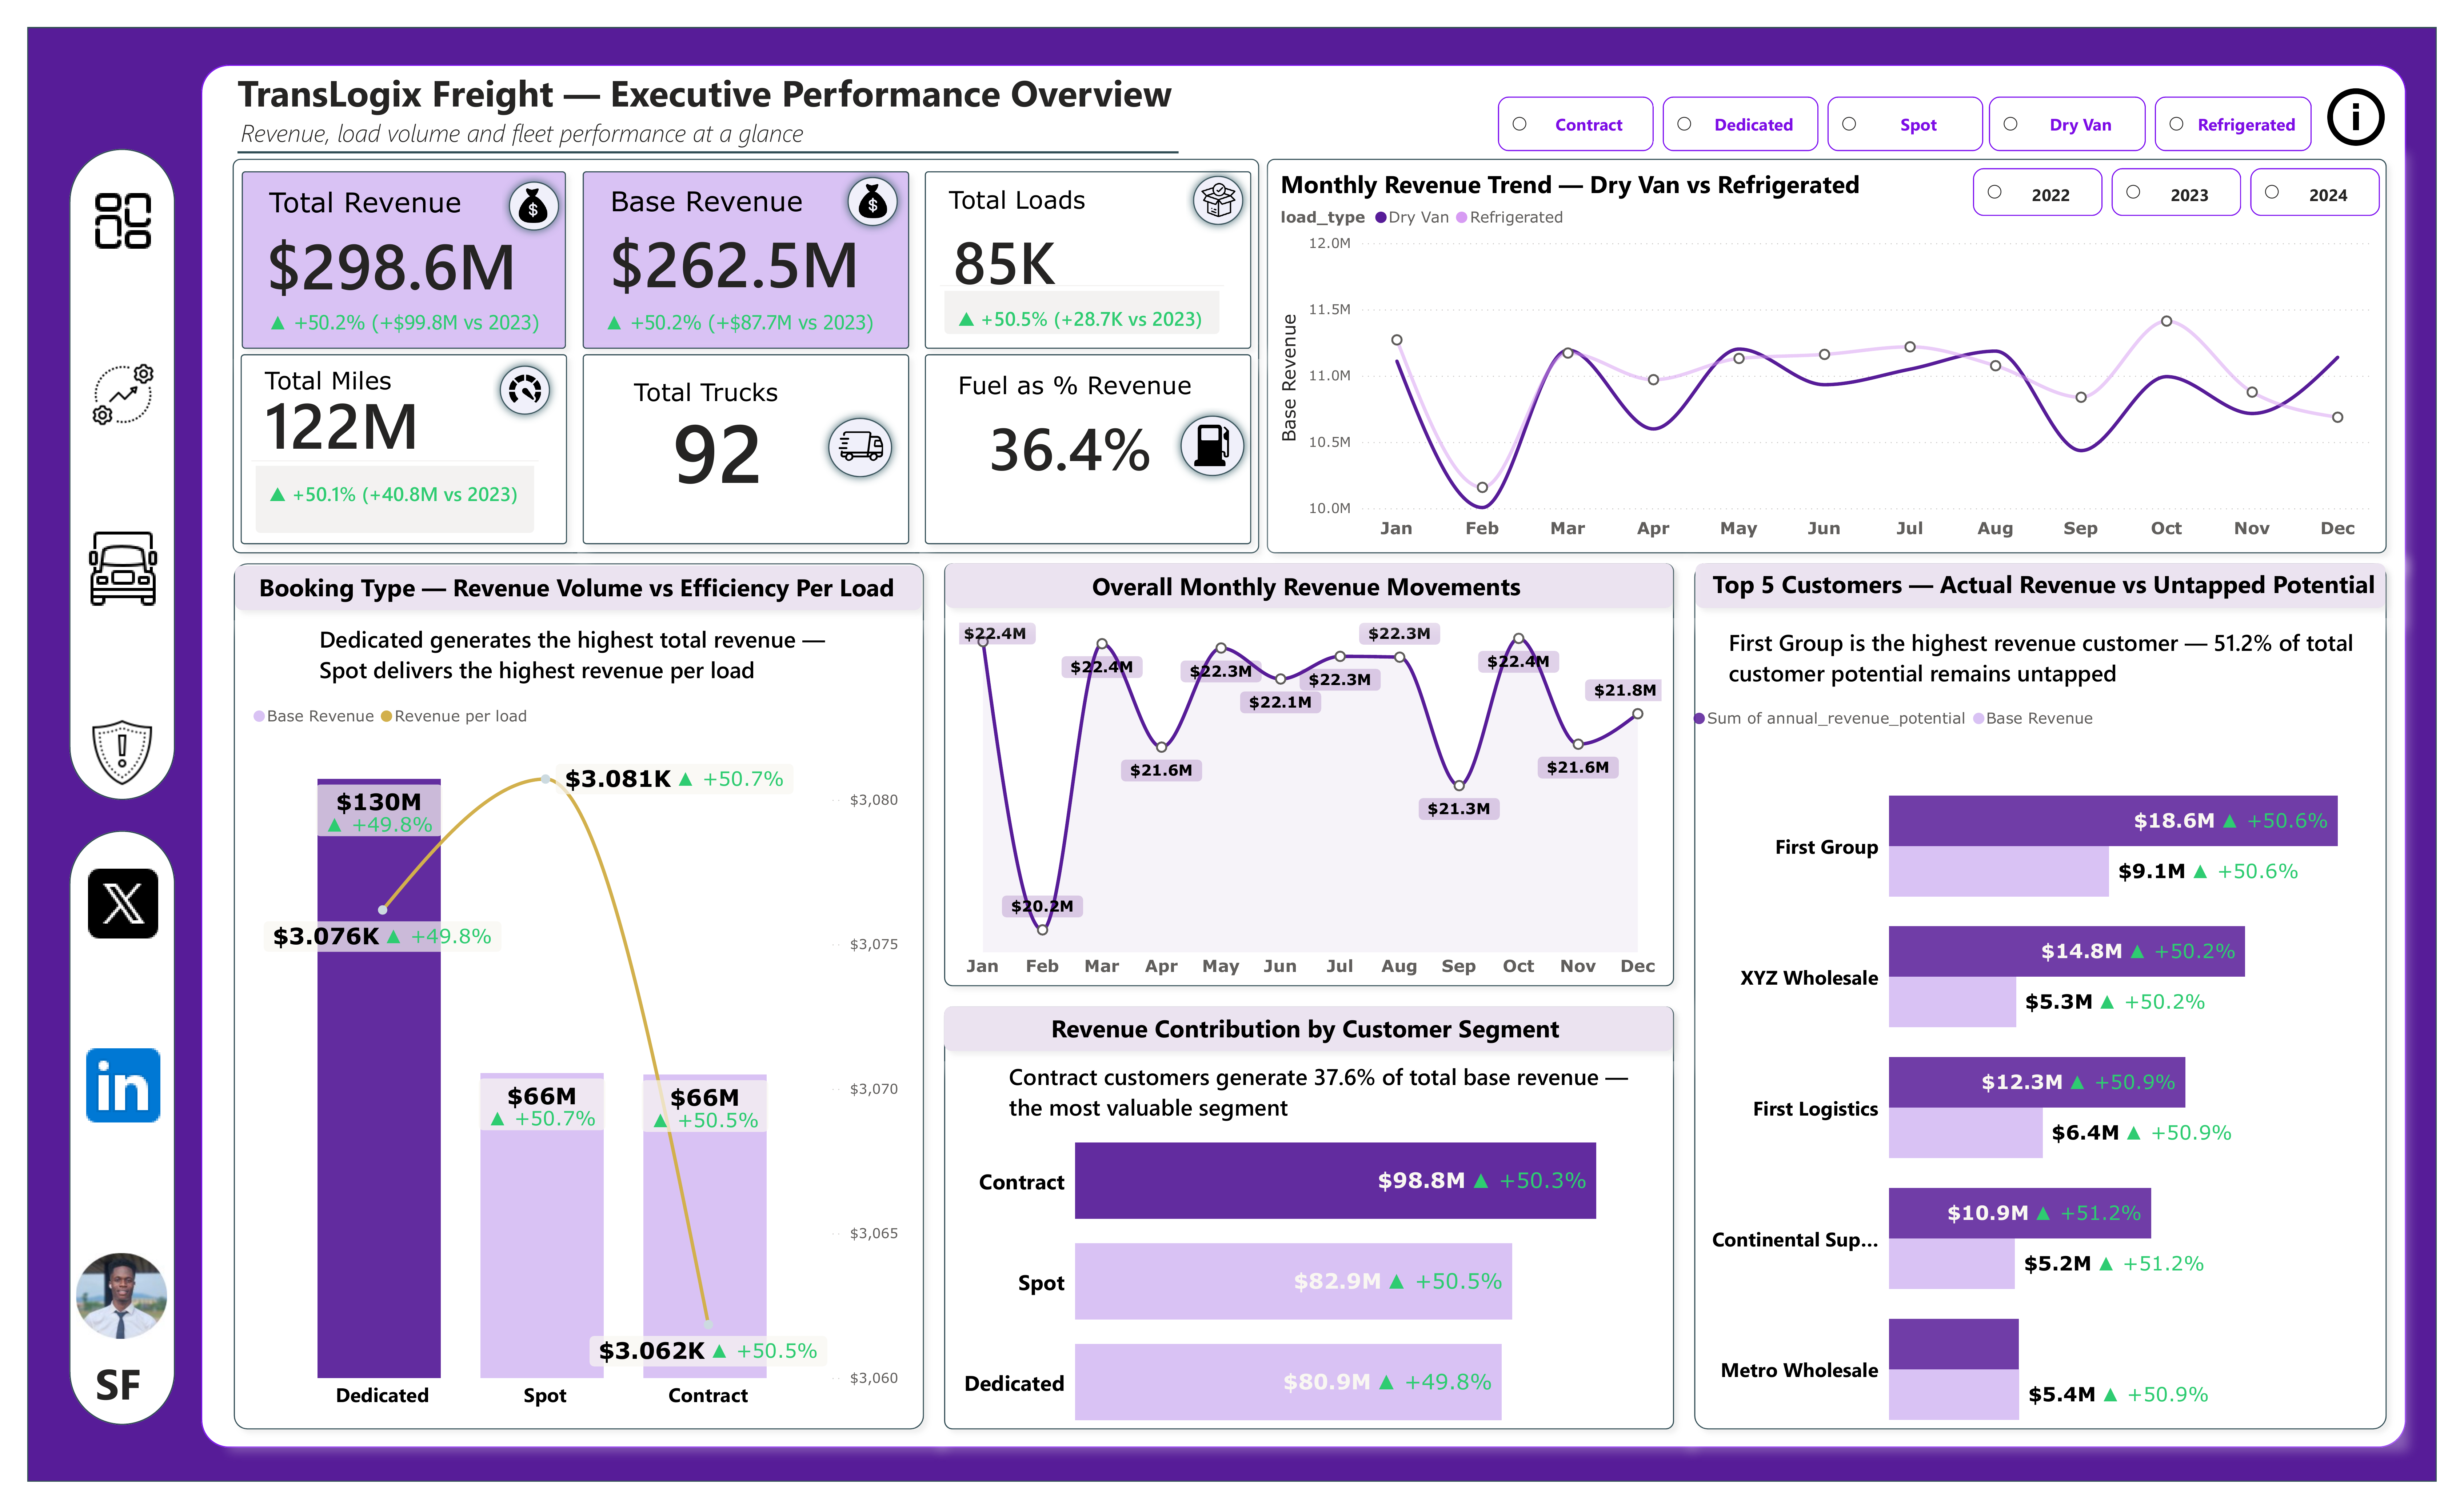

The dashboard page shown, as its layout file describes it:
{"tool":"powerbi","page":{"name":"Overview","canvas":[2120,1280],"ordinal":0},"visuals":[{"type":"shape","box":[0,0,2120,1280],"z":0},{"type":"shape","box":[152.5,27.5,1940,1222.5],"z":1000},{"type":"shape","box":[171.7,106.7,921.7,365],"z":2000},{"type":"shape","box":[1082.2,107.1,1003.1,365.4],"z":3000},{"type":"shape","box":[172.5,462.5,625,780],"z":4000},{"type":"shape","box":[798.1,462.7,660,390],"z":5000},{"type":"shape","box":[797.5,852.5,660,390],"z":6000},{"type":"lineChart","fields":{"Category":["Date Table.Month Name"],"Y":["Analysis.Base Revenue"],"Series":["loads.load_type"]},"box":[1098.3,146.7,970,313.3],"z":7000},{"type":"shape","box":[1457.5,462.7,627.5,780],"z":8000},{"type":"lineClusteredColumnComboChart","fields":{"Category":["loads.booking_type"],"Y":["Analysis.Base Revenue"],"Y2":["Analysis.Revenue per load"]},"box":[193.2,586.5,591.1,640],"z":9000},{"type":"areaChart","fields":{"Category":["Date Table.Month Name"],"Y":["Analysis.Base Revenue"]},"box":[815,512.5,627.5,332.5],"z":10000},{"type":"clusteredBarChart","fields":{"Category":["customers.customer_name"],"Y":["Sum(customers.annual_revenue_potential)","Analysis.Base Revenue"]},"box":[1460,587.5,660,692.5],"z":11000},{"type":"barChart","fields":{"Category":["customers.customer_type"],"Y":["Analysis.Base Revenue"]},"box":[817.5,932.5,642.5,337.5],"z":12000},{"type":"shape","box":[180,118.3,303.3,173.3],"z":13000},{"type":"shape","box":[178.9,278.9,305,185],"z":14000},{"type":"shape","box":[480.2,117.9,305,173.8],"z":15000},{"type":"shape","box":[480.2,278.9,305,185],"z":16000},{"type":"shape","box":[781.4,117.9,305,173.8],"z":17000},{"type":"shape","box":[781.4,278.9,305,185],"z":18000},{"type":"cardVisual","fields":{"Data":["Analysis.Base Revenue"]},"box":[483.3,146.7,280,115],"z":19000},{"type":"cardVisual","fields":{"Data":["Analysis.Total loads"]},"box":[785.7,162.9,284.3,128.6],"z":20000},{"type":"cardVisual","fields":{"Data":["Analysis.Revenue KPI Subtitle"]},"box":[480,222.5,305,70],"z":21000},{"type":"shape","box":[713.8,123.8,60,58.8],"z":22000},{"type":"image","box":[722.5,137.5,41.2,30],"z":23000},{"type":"textbox","box":[507.5,132.5,182.5,45],"z":24000},{"type":"shape","box":[1017.9,123.1,60,58.8],"z":25000},{"type":"image","box":[1021.6,136.9,51.2,30],"z":26000},{"type":"cardVisual","fields":{"Data":["Analysis.Total Miles"]},"box":[180,295.7,287.1,170],"z":27000},{"type":"shape","box":[36.7,106.7,93.3,573.3],"z":28000},{"type":"shape","box":[36.7,706.7,93.3,523.3],"z":29000},{"type":"textbox","box":[805.7,134.3,165.7,44.3],"z":30000},{"type":"shape","box":[408,290,60,59],"z":31000},{"type":"image","box":[423.8,296.2,28.5,43.1],"z":32000},{"type":"cardVisual","fields":{"Data":["Analysis.Total Revenue"]},"box":[181.1,156.7,300,100],"z":33000},{"type":"cardVisual","fields":{"Data":["Analysis.Active Trucks"]},"box":[538.6,315.7,167.1,107.1],"z":34000},{"type":"textbox","box":[207.8,134.4,182.2,44.4],"z":35000},{"type":"textbox","box":[204.3,292.9,165.7,44.3],"z":36000},{"type":"textbox","box":[528.6,302.9,167.1,45.7],"z":37000},{"type":"cardVisual","fields":{"Data":["Analysis.Fuel as % Revenue"]},"box":[817.1,324.3,222.9,87.1],"z":38000},{"type":"textbox","box":[814.3,297.1,225.7,45.7],"z":39000},{"type":"shape","box":[1007.1,334.3,71.4,68.6],"z":40000},{"type":"shape","box":[415.6,128,60,58.8],"z":41000},{"type":"image","box":[424.4,141.8,41.2,30],"z":42000},{"type":"shape","box":[697.1,335.7,71.4,68.6],"z":43000},{"type":"image","box":[714.3,322.9,38.6,91.4],"z":44000},{"type":"image","box":[1024.3,348.6,35.7,38.6],"z":45000},{"type":"textbox","box":[1098.3,118.3,525,48.3],"z":46000},{"type":"advancedSlicerVisual","fields":{"Values":["Date Table.Years"]},"box":[1707.1,118.6,368.6,52.9],"z":47000},{"type":"image","box":[43.3,1030,80,173.3],"z":48000},{"type":"advancedSlicerVisual","fields":{"Values":["loads.load_type"]},"box":[1721.4,55.7,294.3,58.6],"z":49000},{"type":"advancedSlicerVisual","fields":{"Values":["customers.customer_type"]},"box":[1288.6,55.7,437.1,58.6],"z":50000},{"type":"textbox","box":[55.3,1162.7,68,64.7],"z":51000},{"type":"textbox","box":[180,30,1073.3,66.7],"z":52000},{"type":"textbox","box":[182.5,72.5,742.5,45],"z":53000},{"type":"image","box":[30.3,137.5,107.5,65],"z":54000},{"type":"image","box":[45.3,602.5,77.5,72.5],"z":55000},{"type":"image","box":[47.8,444.2,72.5,65],"z":56000},{"type":"image","box":[39.1,295.8,90,55],"z":57000},{"type":"shape","box":[185,85,827.5,50],"z":58000},{"type":"shape","box":[1458.6,462.9,625.7,57.1],"z":59000},{"type":"textbox","box":[1478.3,470,596.7,53.3],"z":60000},{"type":"shape","box":[798.3,853.3,658.3,56.7],"z":61000},{"type":"textbox","box":[895.7,861.4,467.1,52.9],"z":62000},{"type":"shape","box":[798.6,462.9,658.6,57.1],"z":63000},{"type":"textbox","box":[931.7,471.7,410,51.7],"z":64000},{"type":"shape","box":[174,465,622,57],"z":65000},{"type":"textbox","box":[199,473,590,47],"z":66000},{"type":"image","box":[7.5,887.5,152.5,87.5],"z":67000},{"type":"image","box":[38.8,735,90,72.5],"z":68000},{"type":"cardVisual","fields":{"Data":["Callout Measures.Booking Type Insight"]},"box":[228.1,477.1,526,146.6],"z":69000},{"type":"cardVisual","fields":{"Data":["Callout Measures.Customer Type Insight"]},"box":[835,865,605,140],"z":70000},{"type":"cardVisual","fields":{"Data":["Callout Measures.Customer Potential Insight"]},"box":[1467.5,487.5,632.5,130],"z":71000},{"type":"actionButton","box":[2017.5,47.5,75,62.5],"z":72000},{"type":"cardVisual","fields":{"Data":["Analysis.Total Revenue KPI Subtitle"]},"box":[183.9,214.1,370,88.4],"z":73000}]}

Visuals, with their boxes on the page's 2120x1280 design canvas (x1, y1, x2, y2). These are canvas units, not pixel positions in the 2464x1509 screenshot, which may show the page scaled, cropped or inside an application window:
shape: bbox(0, 0, 2120, 1280)
shape: bbox(152, 28, 2092, 1250)
shape: bbox(172, 107, 1093, 472)
shape: bbox(1082, 107, 2085, 472)
shape: bbox(172, 462, 798, 1242)
shape: bbox(798, 463, 1458, 853)
shape: bbox(798, 852, 1458, 1242)
lineChart - Date Table.Month Name x Analysis.Base Revenue: bbox(1098, 147, 2068, 460)
shape: bbox(1458, 463, 2085, 1243)
lineClusteredColumnComboChart - loads.booking_type x Analysis.Base Revenue: bbox(193, 586, 784, 1226)
areaChart - Date Table.Month Name x Analysis.Base Revenue: bbox(815, 512, 1442, 845)
clusteredBarChart - customers.customer_name x Sum(customers.annual_revenue_potential): bbox(1460, 588, 2120, 1280)
barChart - customers.customer_type x Analysis.Base Revenue: bbox(818, 932, 1460, 1270)
shape: bbox(180, 118, 483, 292)
shape: bbox(179, 279, 484, 464)
shape: bbox(480, 118, 785, 292)
shape: bbox(480, 279, 785, 464)
shape: bbox(781, 118, 1086, 292)
shape: bbox(781, 279, 1086, 464)
cardVisual - Analysis.Base Revenue: bbox(483, 147, 763, 262)
cardVisual - Analysis.Total loads: bbox(786, 163, 1070, 292)
cardVisual - Analysis.Revenue KPI Subtitle: bbox(480, 222, 785, 292)
shape: bbox(714, 124, 774, 183)
image: bbox(722, 138, 764, 168)
textbox: bbox(508, 132, 690, 178)
shape: bbox(1018, 123, 1078, 182)
image: bbox(1022, 137, 1073, 167)
cardVisual - Analysis.Total Miles: bbox(180, 296, 467, 466)
shape: bbox(37, 107, 130, 680)
shape: bbox(37, 707, 130, 1230)
textbox: bbox(806, 134, 971, 179)
shape: bbox(408, 290, 468, 349)
image: bbox(424, 296, 452, 339)
cardVisual - Analysis.Total Revenue: bbox(181, 157, 481, 257)
cardVisual - Analysis.Active Trucks: bbox(539, 316, 706, 423)
textbox: bbox(208, 134, 390, 179)
textbox: bbox(204, 293, 370, 337)
textbox: bbox(529, 303, 696, 349)
cardVisual - Analysis.Fuel as % Revenue: bbox(817, 324, 1040, 411)
textbox: bbox(814, 297, 1040, 343)
shape: bbox(1007, 334, 1078, 403)
shape: bbox(416, 128, 476, 187)
image: bbox(424, 142, 466, 172)
shape: bbox(697, 336, 768, 404)
image: bbox(714, 323, 753, 414)
image: bbox(1024, 349, 1060, 387)
textbox: bbox(1098, 118, 1623, 167)
advancedSlicerVisual - Date Table.Years: bbox(1707, 119, 2076, 172)
image: bbox(43, 1030, 123, 1203)
advancedSlicerVisual - loads.load_type: bbox(1721, 56, 2016, 114)
advancedSlicerVisual - customers.customer_type: bbox(1289, 56, 1726, 114)
textbox: bbox(55, 1163, 123, 1227)
textbox: bbox(180, 30, 1253, 97)
textbox: bbox(182, 72, 925, 118)
image: bbox(30, 138, 138, 202)
image: bbox(45, 602, 123, 675)
image: bbox(48, 444, 120, 509)
image: bbox(39, 296, 129, 351)
shape: bbox(185, 85, 1012, 135)
shape: bbox(1459, 463, 2084, 520)
textbox: bbox(1478, 470, 2075, 523)
shape: bbox(798, 853, 1457, 910)
textbox: bbox(896, 861, 1363, 914)
shape: bbox(799, 463, 1457, 520)
textbox: bbox(932, 472, 1342, 523)
shape: bbox(174, 465, 796, 522)
textbox: bbox(199, 473, 789, 520)
image: bbox(8, 888, 160, 975)
image: bbox(39, 735, 129, 808)
cardVisual - Callout Measures.Booking Type Insight: bbox(228, 477, 754, 624)
cardVisual - Callout Measures.Customer Type Insight: bbox(835, 865, 1440, 1005)
cardVisual - Callout Measures.Customer Potential Insight: bbox(1468, 488, 2100, 618)
actionButton: bbox(2018, 48, 2092, 110)
cardVisual - Analysis.Total Revenue KPI Subtitle: bbox(184, 214, 554, 302)
